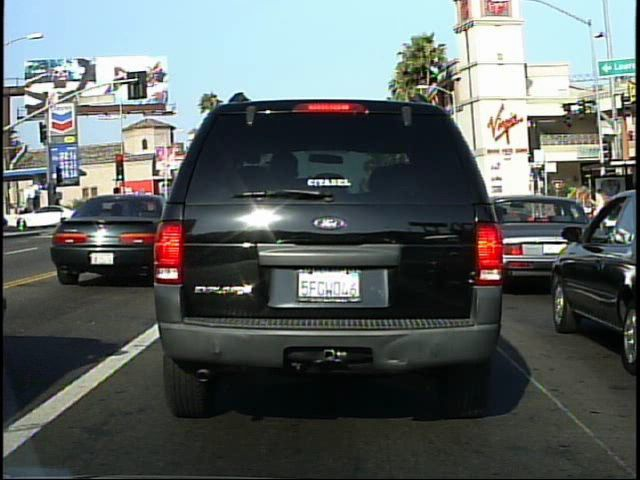person: (589, 184, 612, 239)
